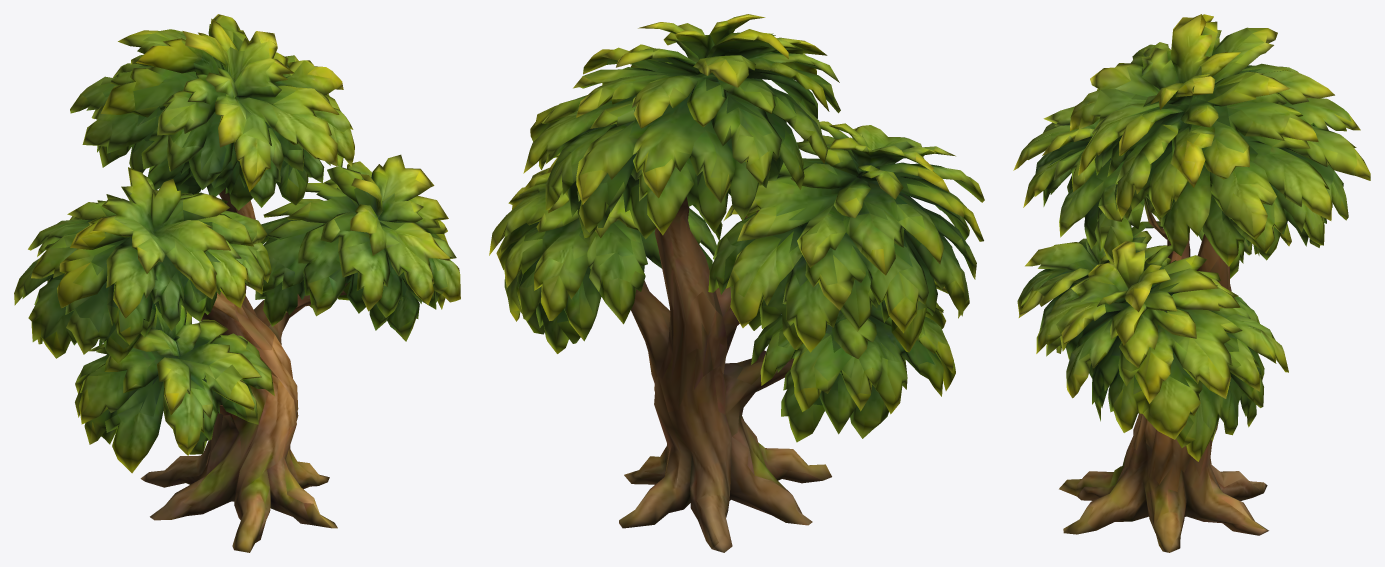
File: forest_tree_a.glb
The picture shows the model from 3 angles, left to right: view 1: azimuth 30°, elevation 25°; view 2: azimuth 150°, elevation 25°; view 3: azimuth 270°, elevation 25°; orthographic projection. The views are drawn at different scales.
Visible parts, largest first — view 1: tripo_node_8c45c21c-248f-4020-9f51-129a4f492763; view 2: tripo_node_8c45c21c-248f-4020-9f51-129a4f492763; view 3: tripo_node_8c45c21c-248f-4020-9f51-129a4f492763.
Boxes of the visible parts, x1,y1,x2,y2 form: tripo_node_8c45c21c-248f-4020-9f51-129a4f492763: (14,14,460,552); tripo_node_8c45c21c-248f-4020-9f51-129a4f492763: (489,14,984,552); tripo_node_8c45c21c-248f-4020-9f51-129a4f492763: (1013,14,1370,552).
Size of the model in its own units: 8.42 by 9 by 6.11.
Materials: 1 (1 with a texture image).
